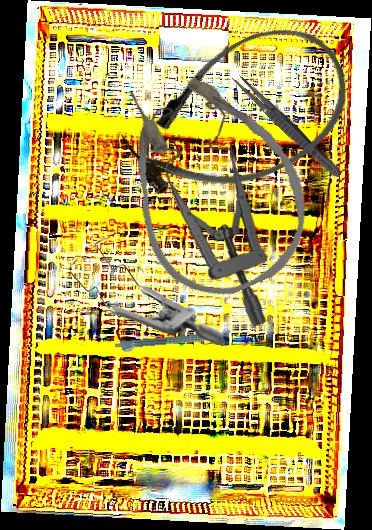Cannula: (88, 42, 333, 317), (107, 5, 370, 227)
Dressing Forceps: (227, 70, 346, 182)
Handpiece: (114, 331, 230, 354)
Speculum: (135, 96, 280, 328), (69, 235, 223, 348)
